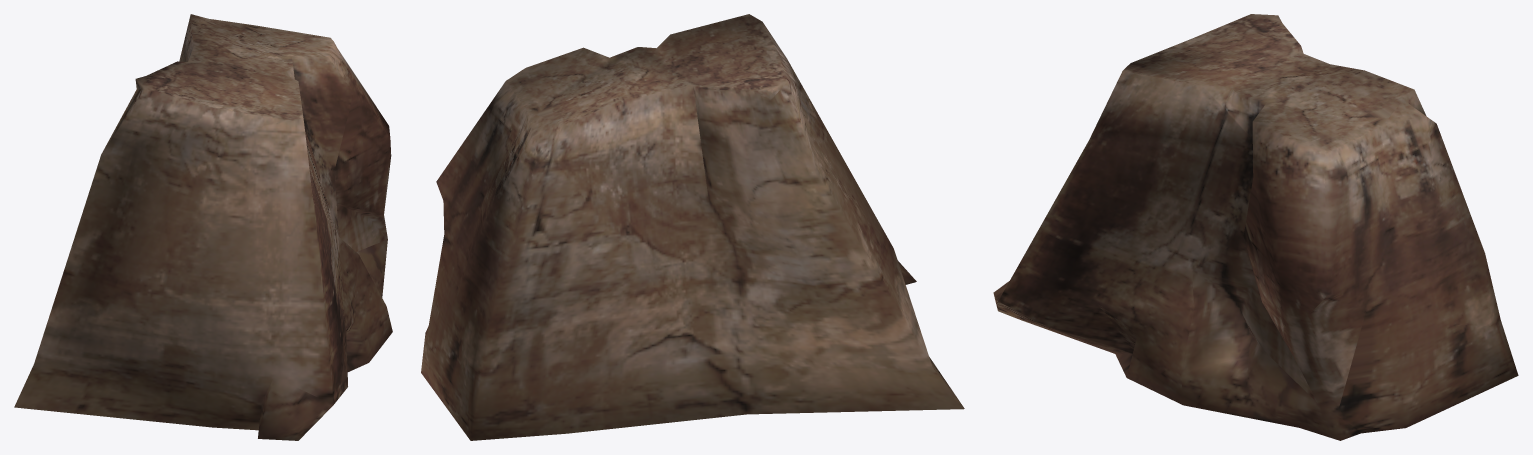
File: Mesh_Cliff_Block_03_Taper_AS.fbx
The picture shows the model from 3 angles, left to right: view 1: azimuth 30°, elevation 25°; view 2: azimuth 150°, elevation 25°; view 3: azimuth 270°, elevation 25°; orthographic projection. The views are drawn at different scales.
Visible parts, largest first — view 1: Mesh_Cliff_Block_03_Taper_AS; view 2: Mesh_Cliff_Block_03_Taper_AS; view 3: Mesh_Cliff_Block_03_Taper_AS.
Part boxes in pixels (x1,y1,x2,y2): Mesh_Cliff_Block_03_Taper_AS: (14, 14, 392, 440); Mesh_Cliff_Block_03_Taper_AS: (421, 14, 964, 440); Mesh_Cliff_Block_03_Taper_AS: (993, 14, 1518, 440).
Bounding box in the file's own units: 5330 × 3431 × 5454.
